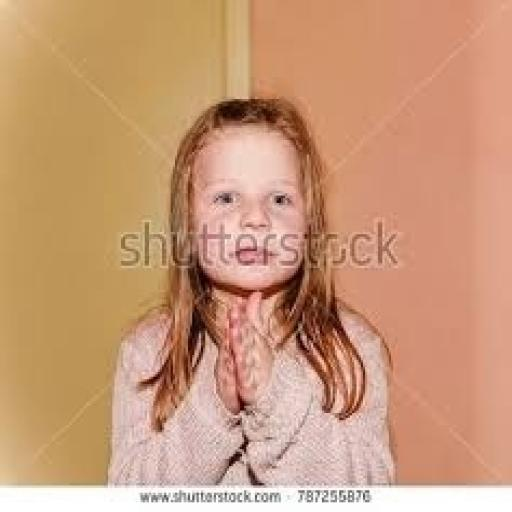clapping: (104, 94, 398, 486)
